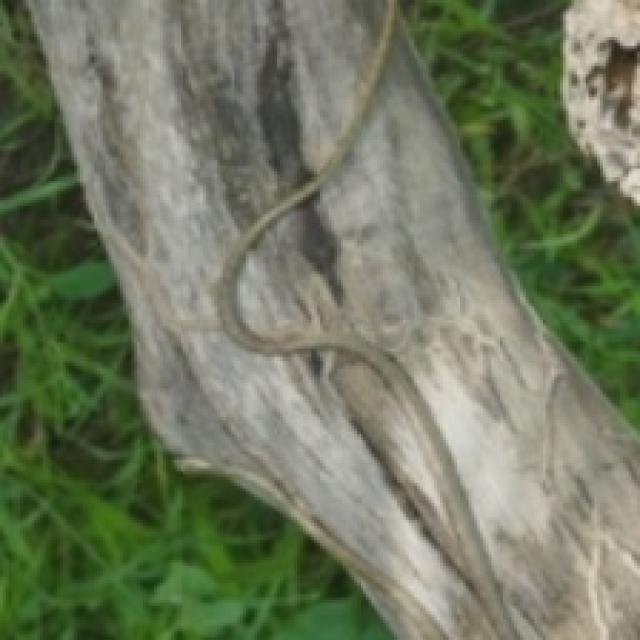paradise tree snake: (218, 0, 511, 639), (172, 456, 449, 640)
